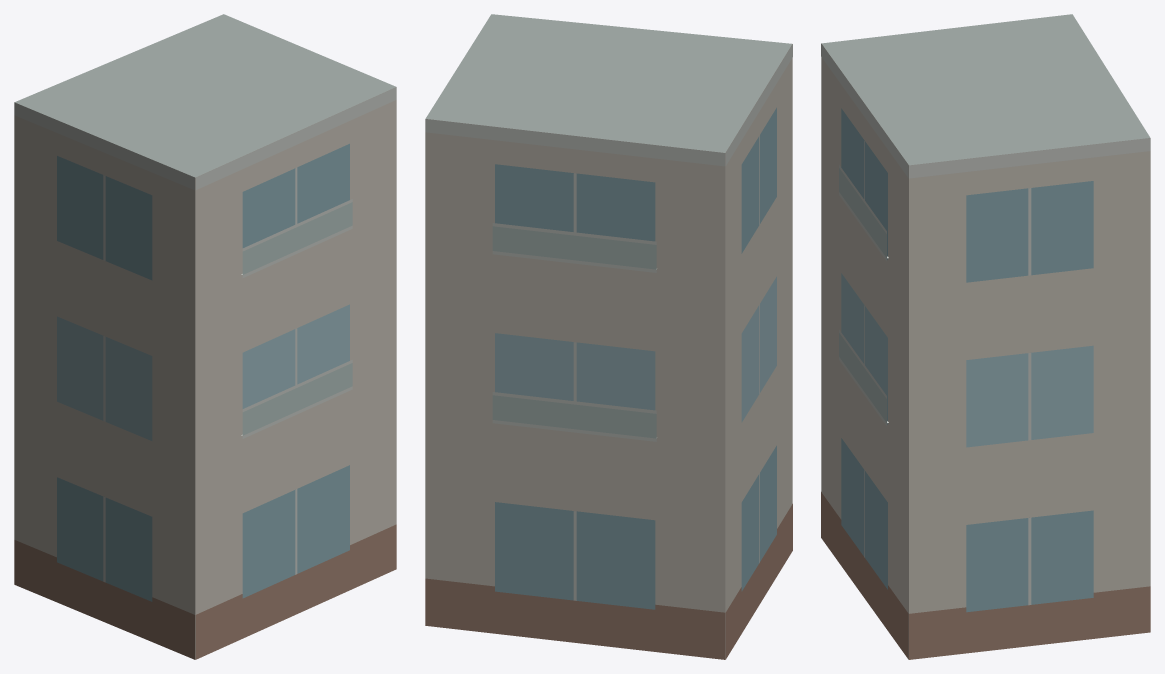
File: survey-upis-32653282.glb
3 renders of one model, left to right at view 1: azimuth 30°, elevation 25°; view 2: azimuth 150°, elevation 25°; view 3: azimuth 270°, elevation 25°, orthographic. The views are drawn at different scales.
Visible parts, largest first — view 1: survey-upis-32653282.tmp; view 2: survey-upis-32653282.tmp; view 3: survey-upis-32653282.tmp.
Part boxes in pixels (x1,y1,x2,y2): survey-upis-32653282.tmp: (14,14,396,659); survey-upis-32653282.tmp: (425,14,792,659); survey-upis-32653282.tmp: (821,14,1150,659).
Size of the model in its own units: 6.02 by 9.15 by 5.53.
